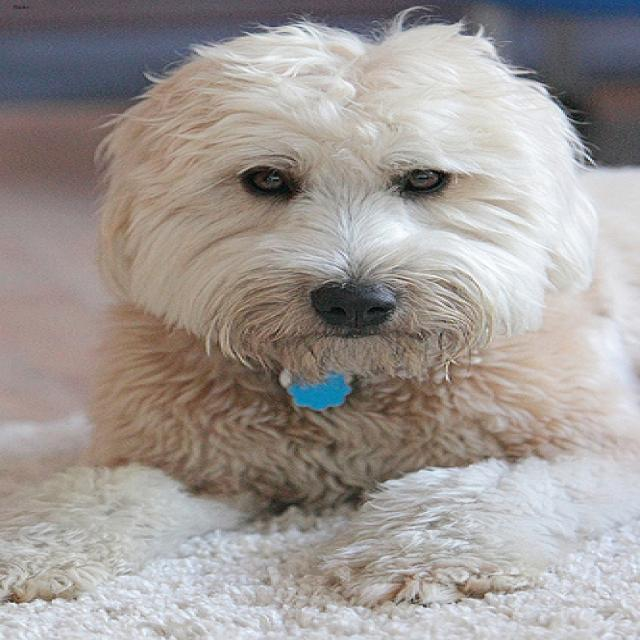dog-wheaten_terrier: (2, 9, 636, 620)
